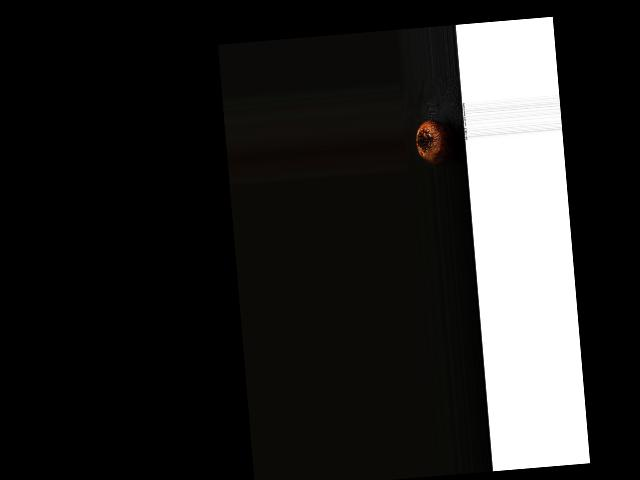beet: (415, 118, 457, 167)
